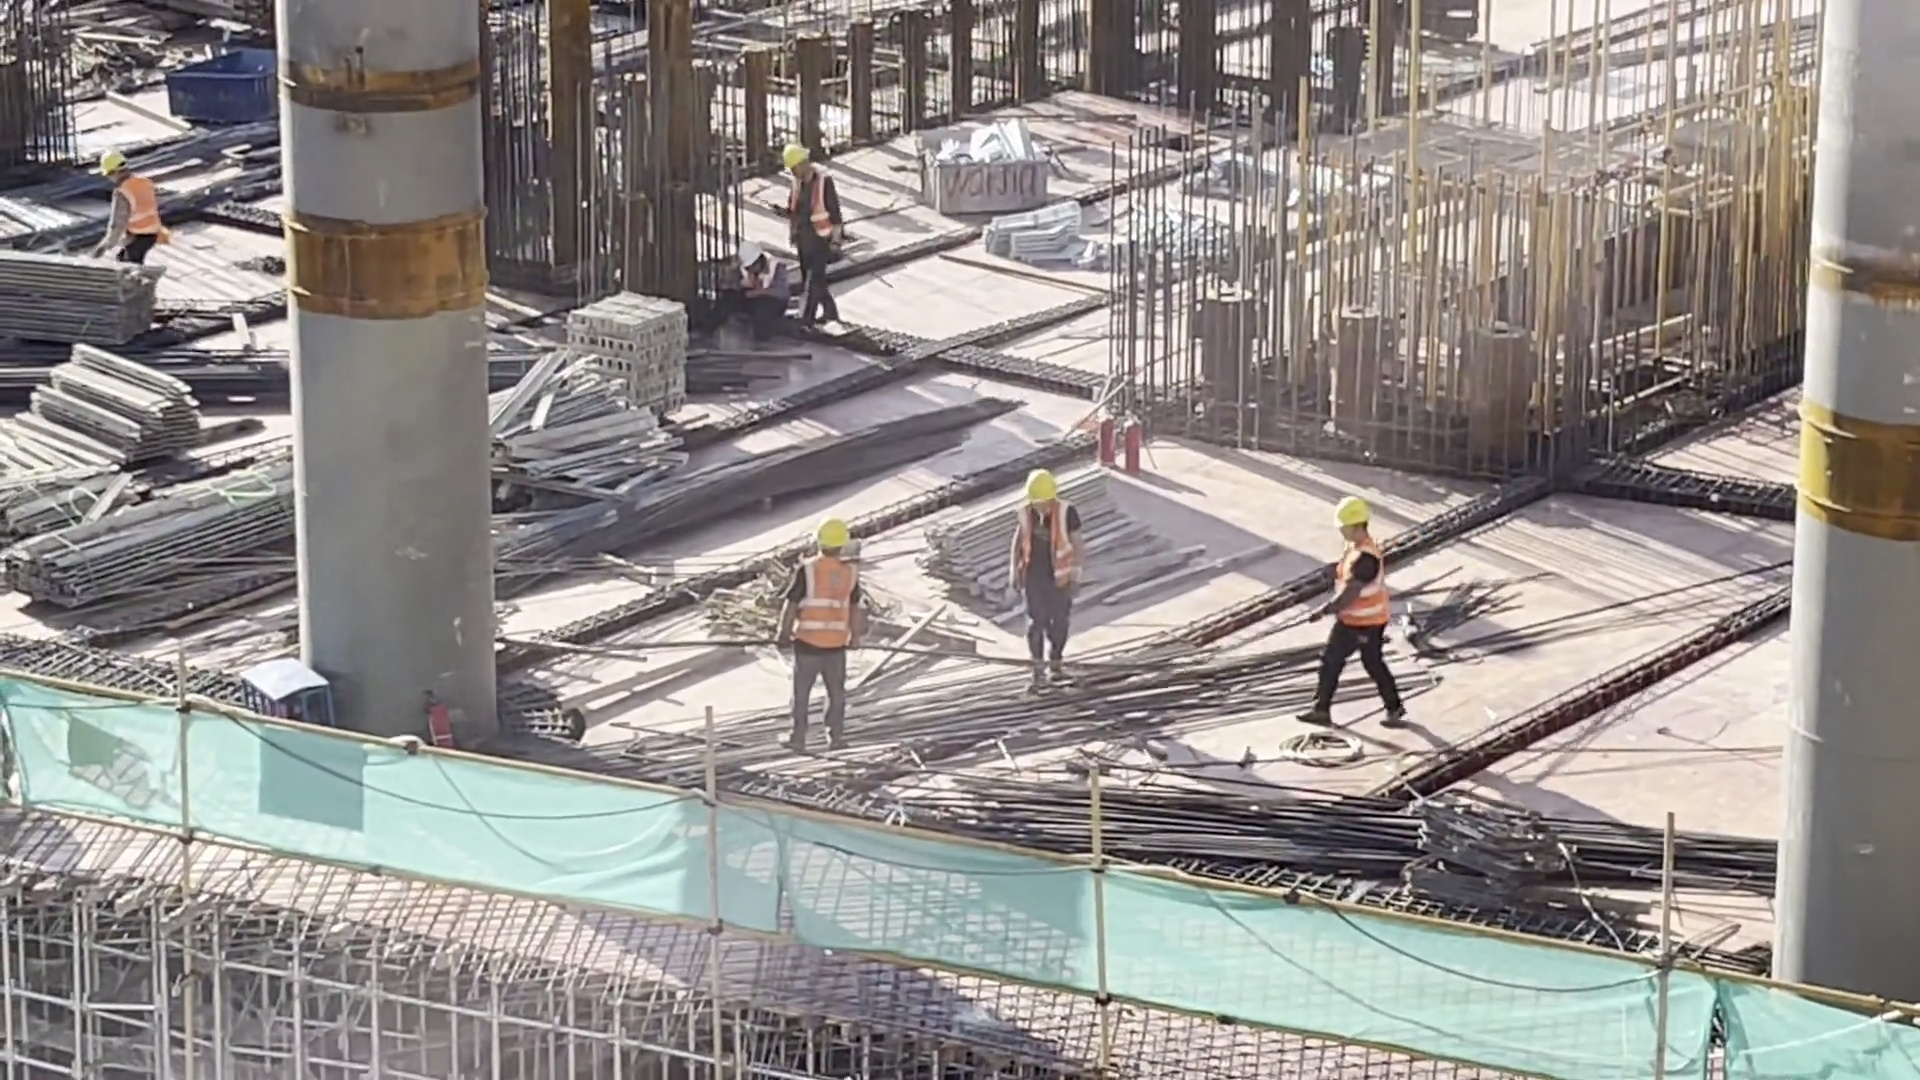helmet: (1323, 493, 1372, 534), (722, 235, 771, 274), (779, 130, 808, 178), (86, 149, 129, 179), (1024, 467, 1063, 497), (807, 522, 842, 552)
person: (1314, 491, 1408, 749), (999, 461, 1088, 706), (786, 500, 870, 752), (760, 141, 852, 339), (96, 156, 169, 287), (703, 237, 800, 330)
vest: (787, 552, 861, 659), (1329, 553, 1392, 626), (1015, 508, 1074, 583), (782, 182, 842, 245), (107, 181, 164, 245)
